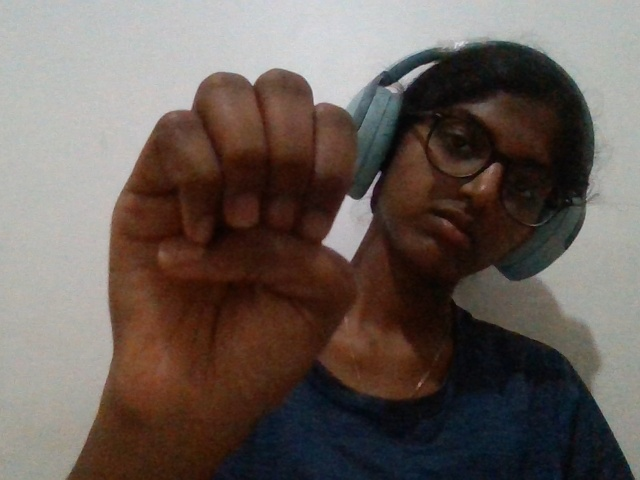E: (76, 58, 375, 460)
